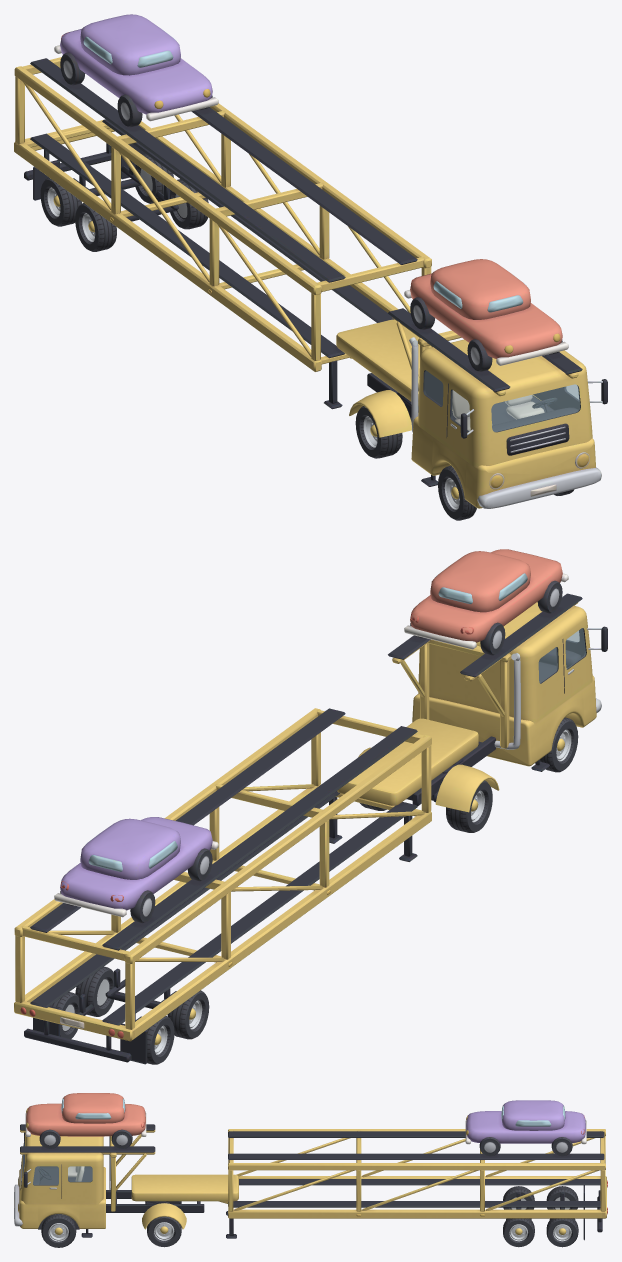
Rendered from car-transporter.glb.
3 renders of one model, top to bottom at view 1: azimuth 30°, elevation 25°; view 2: azimuth 150°, elevation 25°; view 3: azimuth 270°, elevation 25°, orthographic. The views are drawn at different scales.
Parts seen in each view (by area): view 1: car-transporter_trailer, car-transporter_body, car-transporter_windows, car-transporter_wheel_t1r, car-transporter_wheel_t2r, car-transporter_wheel_dr, car-transporter_wheel_fr, car-transporter_wheel_t1l, car-transporter_wheel_t2l; view 2: car-transporter_trailer, car-transporter_body, car-transporter_wheel_t1r, car-transporter_wheel_dr, car-transporter_wheel_fr, car-transporter_wheel_t1l, car-transporter_wheel_t2r, car-transporter_windows; view 3: car-transporter_trailer, car-transporter_body, car-transporter_wheel_fl, car-transporter_windows, car-transporter_wheel_dl, car-transporter_wheel_t2l, car-transporter_wheel_t1l, car-transporter_wheel_t2r, car-transporter_wheel_t1r.
Part boxes in pixels (bbox=[...]): car-transporter_trailer: bbox=[14, 14, 431, 409]; car-transporter_body: bbox=[349, 259, 607, 508]; car-transporter_windows: bbox=[424, 370, 579, 431]; car-transporter_wheel_t1r: bbox=[75, 203, 116, 251]; car-transporter_wheel_t2r: bbox=[40, 177, 81, 226]; car-transporter_wheel_dr: bbox=[355, 406, 402, 458]; car-transporter_wheel_fr: bbox=[438, 465, 476, 520]; car-transporter_wheel_t1l: bbox=[170, 179, 208, 229]; car-transporter_wheel_t2l: bbox=[135, 153, 173, 203]; car-transporter_trailer: bbox=[14, 708, 478, 1064]; car-transporter_body: bbox=[358, 549, 607, 812]; car-transporter_wheel_t1r: bbox=[167, 990, 209, 1039]; car-transporter_wheel_dr: bbox=[446, 780, 492, 832]; car-transporter_wheel_fr: bbox=[540, 717, 578, 772]; car-transporter_wheel_t1l: bbox=[75, 966, 113, 1016]; car-transporter_wheel_t2r: bbox=[146, 1016, 174, 1064]; car-transporter_windows: bbox=[539, 628, 585, 683]; car-transporter_trailer: bbox=[131, 1100, 607, 1240]; car-transporter_body: bbox=[14, 1093, 204, 1237]; car-transporter_wheel_fl: bbox=[41, 1214, 76, 1247]; car-transporter_windows: bbox=[23, 1144, 92, 1184]; car-transporter_wheel_dl: bbox=[147, 1216, 181, 1247]; car-transporter_wheel_t2l: bbox=[546, 1218, 578, 1247]; car-transporter_wheel_t1l: bbox=[503, 1218, 534, 1247]; car-transporter_wheel_t2r: bbox=[546, 1186, 578, 1209]; car-transporter_wheel_t1r: bbox=[503, 1186, 534, 1209].
Size of the model in its own units: 2.9 by 3.98 by 16.33.
27 materials, 10 textured.
